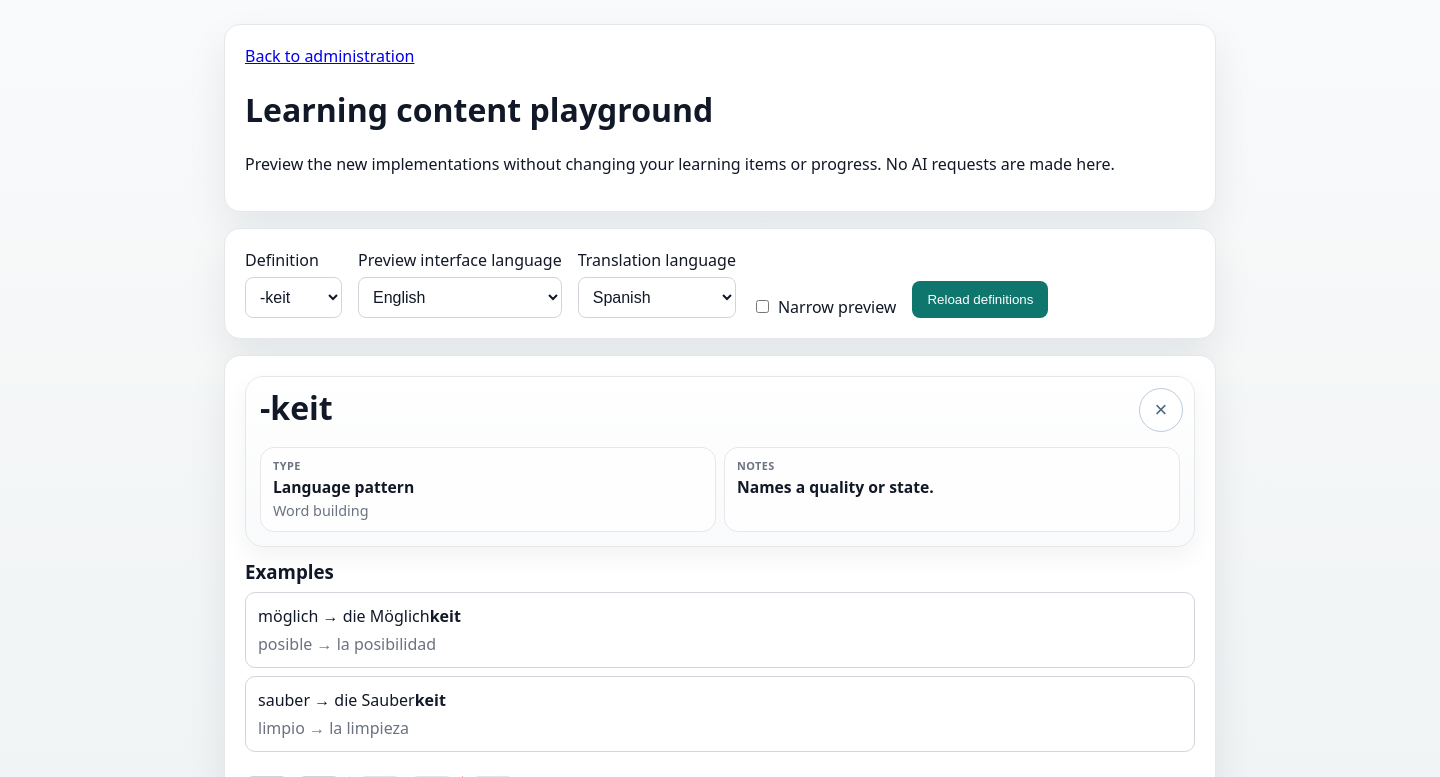
Scenario: switches definitions and reloads the actual catalog
Expected: the heading "-keit" is shown, [260,391,333,424]
Step 1. Select "Second" in the dropdown labelled "Definition" → (294, 297), box [245,277,342,318]
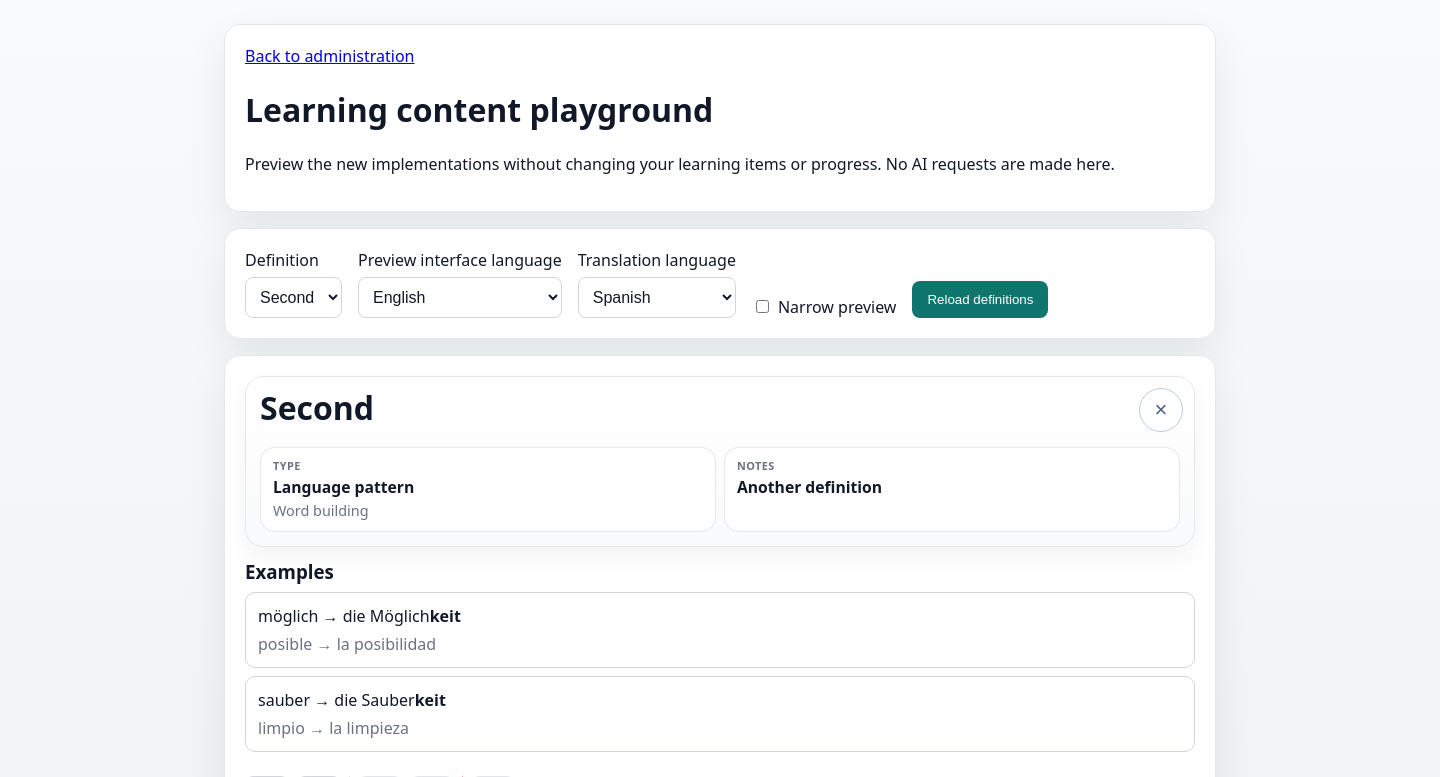
Expected: the heading "Second" is shown, [260,391,374,424]
Step 2. Click the button "Reload definitions" → (980, 299), box [912,281,1048,318]
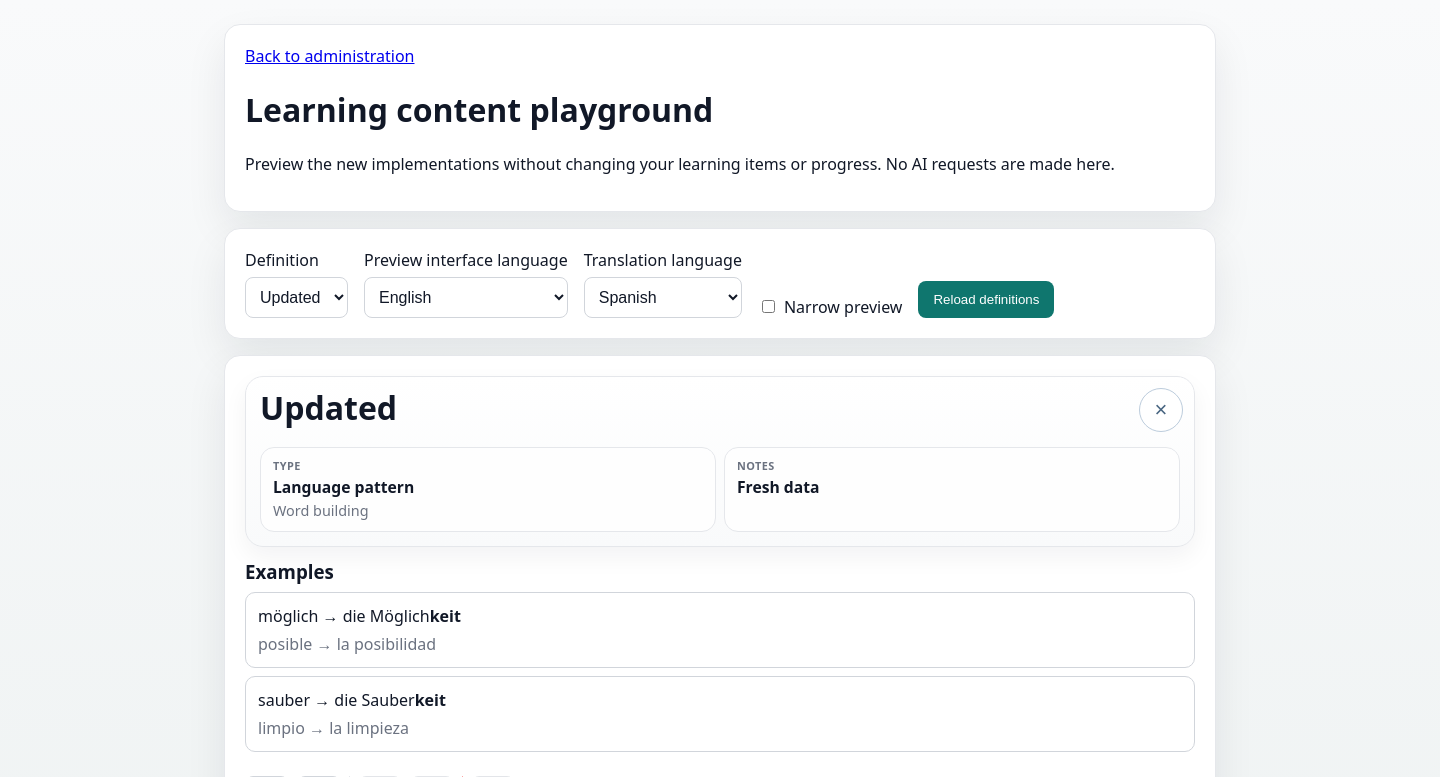
Expected: the heading "Updated" is shown, [260,391,397,424]
